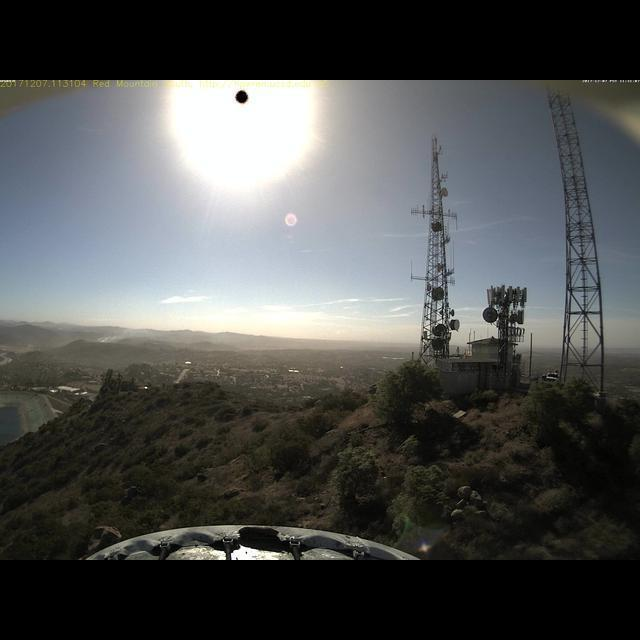Smoke: (90, 313, 168, 345)
